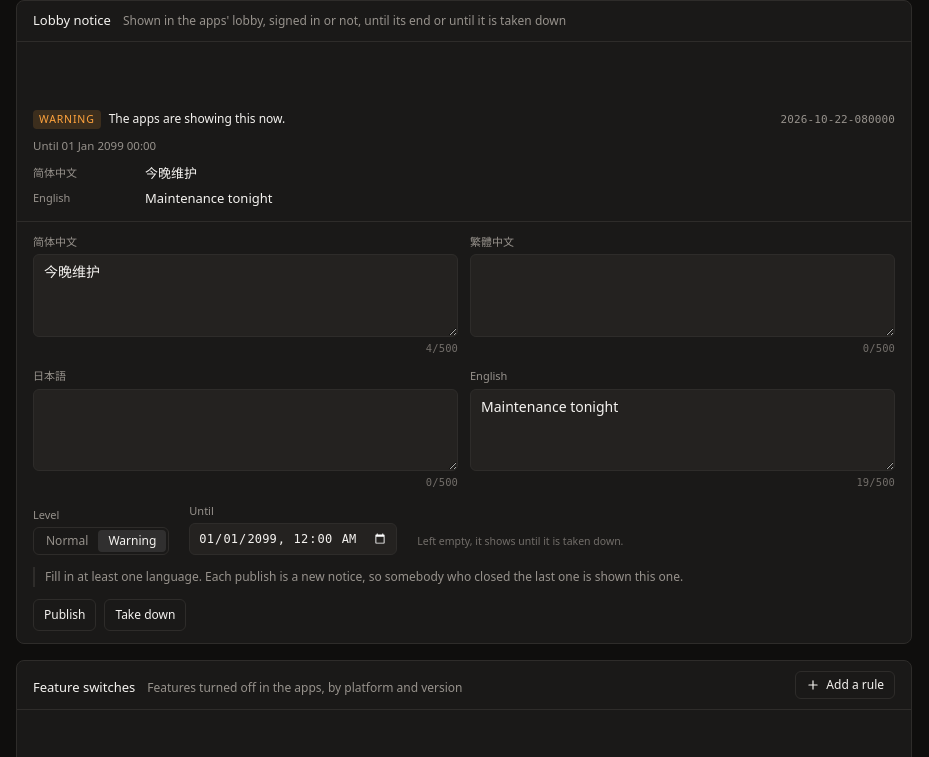
it: the lobby's notice › is filled from the notice in the file, and not over what is being typed
Expected: the text "The apps are showing this now." is shown, x1=109 y1=110 x2=285 y2=128
Replace the text in the text box labelled "English" with "Maintenance tonight, from ten" at (682, 430), box x1=470 y1=389 x2=895 y2=471
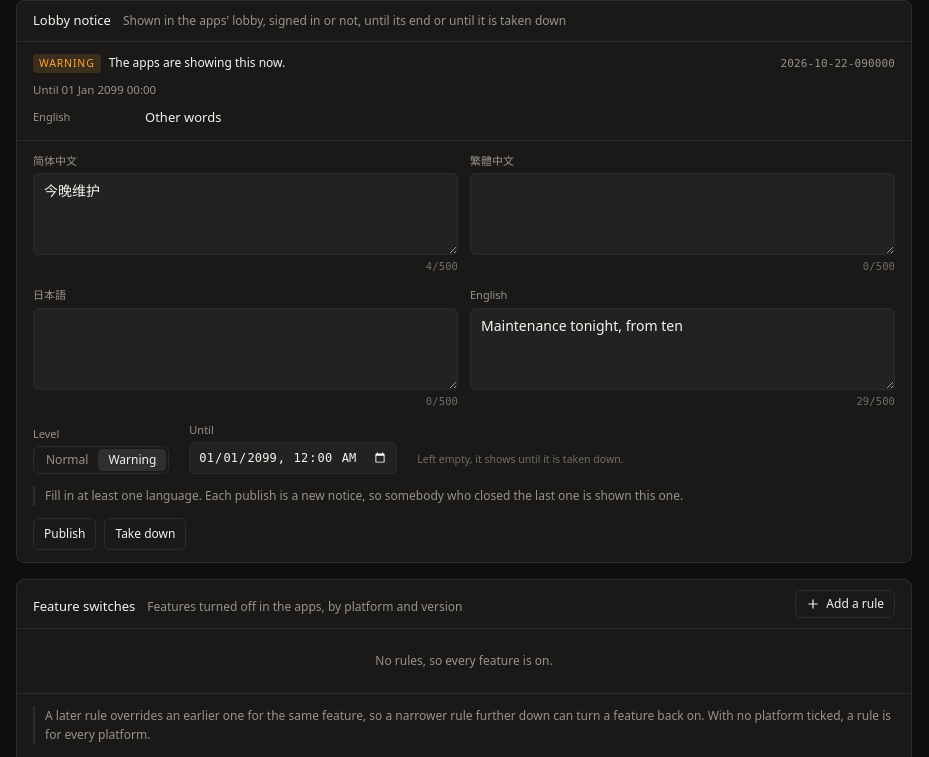
Expected: the text "Other words" is shown, x1=145 y1=108 x2=221 y2=126
